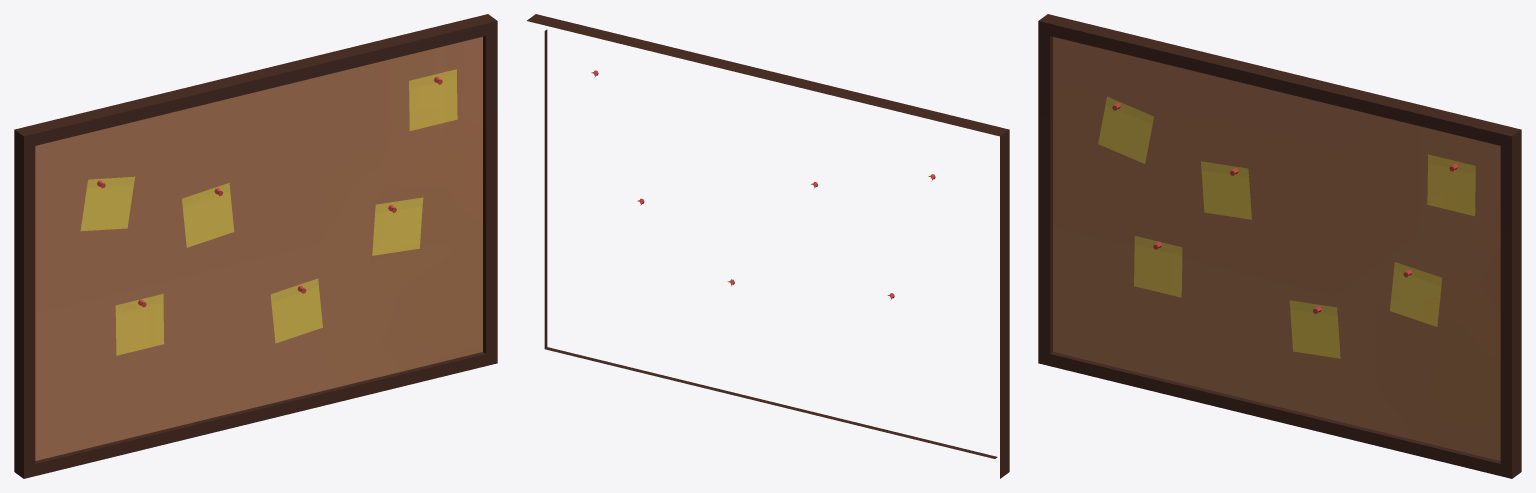
The model's file is wall-corkboard.glb.
3 renders of one model, left to right at view 1: azimuth 30°, elevation 25°; view 2: azimuth 150°, elevation 25°; view 3: azimuth 330°, elevation 25°, orthographic.
Parts seen in each view (by area): view 1: Wall_corkboard_with_post_it_notes; view 2: Wall_corkboard_with_post_it_notes; view 3: Wall_corkboard_with_post_it_notes.
Part boxes in pixels (x1,y1,x2,y2): Wall_corkboard_with_post_it_notes: (14, 14, 497, 478); Wall_corkboard_with_post_it_notes: (527, 14, 1009, 478); Wall_corkboard_with_post_it_notes: (1038, 14, 1521, 478).
Size of the model in its own units: 1 by 0.6906 by 0.0402.
1 material, 1 textured.
